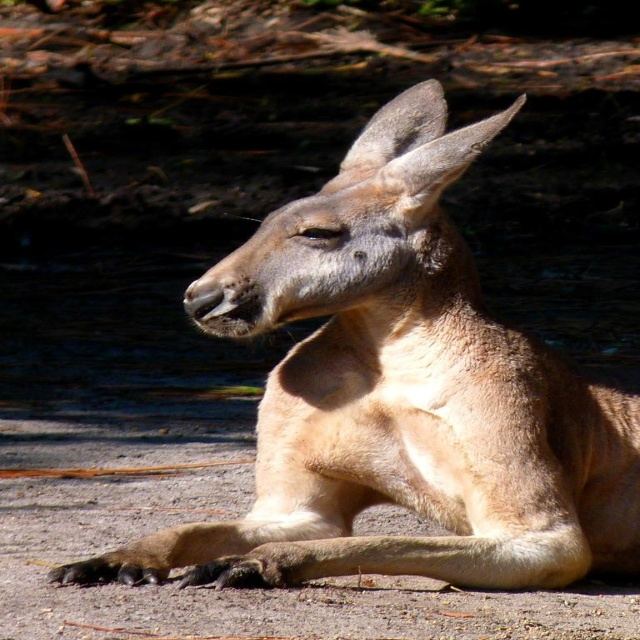Kangaroo: (49, 80, 639, 597)
